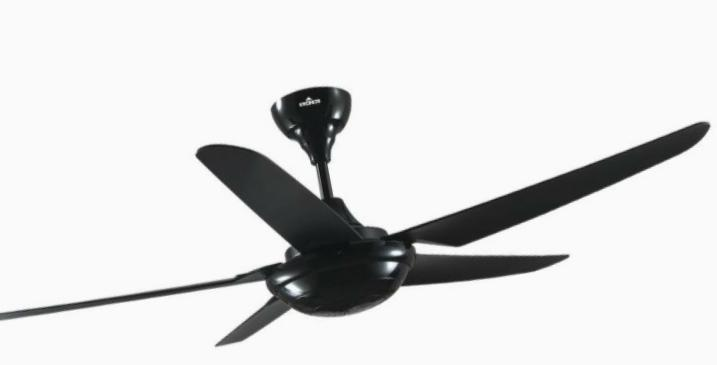fan: (0, 41, 715, 365)
